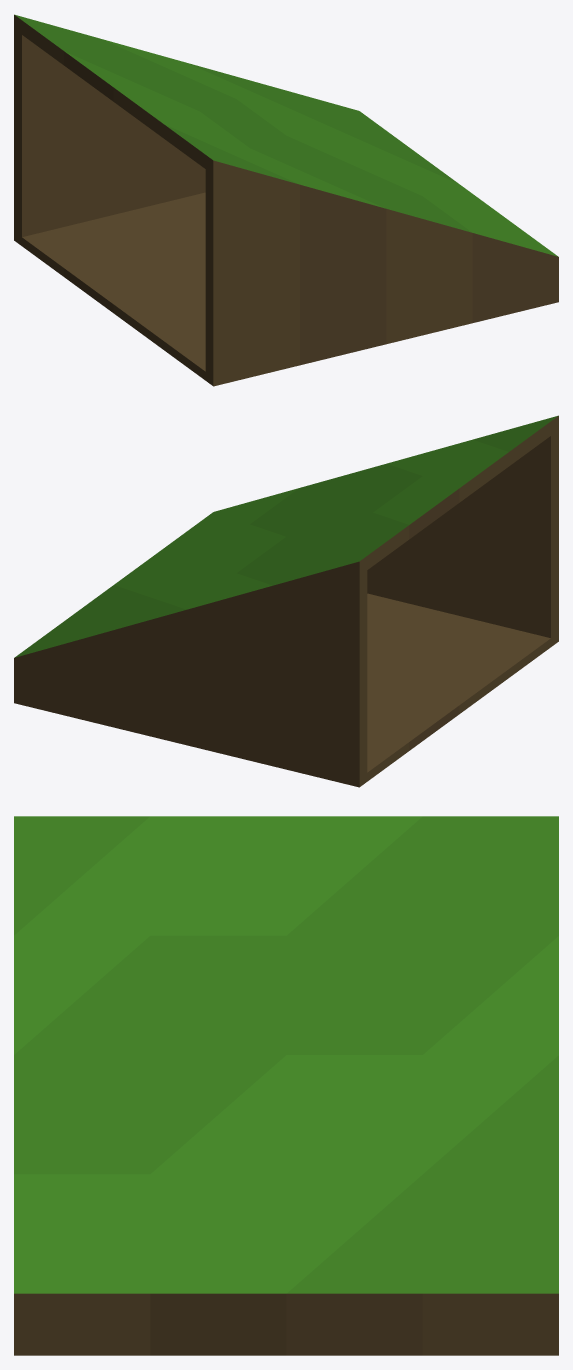
The model's file is T02_Ground_Slope_Hideout_2m.fbx.
The picture shows the model from 3 angles, top to bottom: view 1: azimuth 30°, elevation 25°; view 2: azimuth 150°, elevation 25°; view 3: azimuth 270°, elevation 25°; orthographic projection. The views are drawn at different scales.
Visible parts, largest first — view 1: T02_Ground_Slope_Hideout_2m__LPCXFER; view 2: T02_Ground_Slope_Hideout_2m__LPCXFER; view 3: T02_Ground_Slope_Hideout_2m__LPCXFER.
Boxes of the visible parts, x1,y1,x2,y2 form: T02_Ground_Slope_Hideout_2m__LPCXFER: (14,14,558,386); T02_Ground_Slope_Hideout_2m__LPCXFER: (14,415,558,787); T02_Ground_Slope_Hideout_2m__LPCXFER: (14,816,558,1355).
Size of the model in its own units: 200 by 125 by 200.
